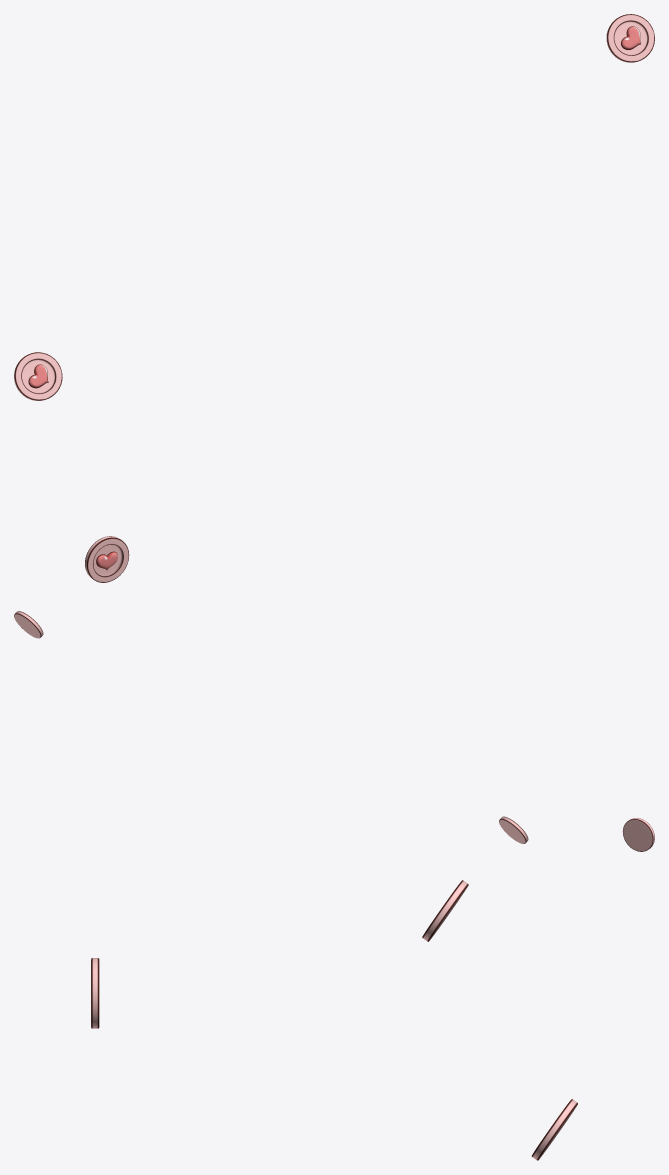
Rendered from section_5.glb.
3 renders of one model, top to bottom at view 1: azimuth 30°, elevation 25°; view 2: azimuth 150°, elevation 25°; view 3: azimuth 270°, elevation 25°, orthographic. The views are drawn at different scales.
Parts seen in each view (by area): view 1: Token2, Token3, Token; view 2: Token, Token3, Token2; view 3: Token2, Token3, Token.
Boxes of the visible parts, x1,y1,x2,y2 form: Token2: [14, 352, 62, 400]; Token3: [606, 14, 654, 62]; Token: [85, 536, 129, 582]; Token: [622, 818, 654, 851]; Token3: [14, 611, 43, 638]; Token2: [499, 816, 528, 843]; Token2: [422, 880, 468, 941]; Token3: [531, 1099, 577, 1160]; Token: [91, 958, 99, 1028].
Bounding box in the file's own units: 9.59 × 3.56 × 3.85.
1 material, 1 textured.
